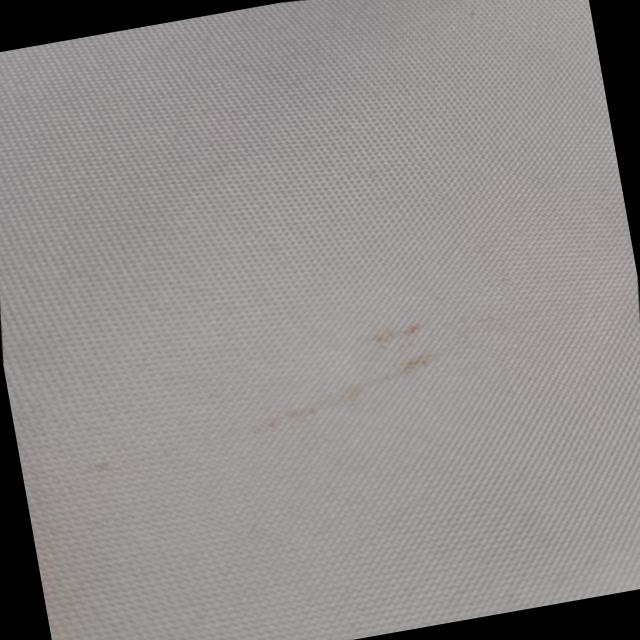stain: (220, 290, 488, 454)
